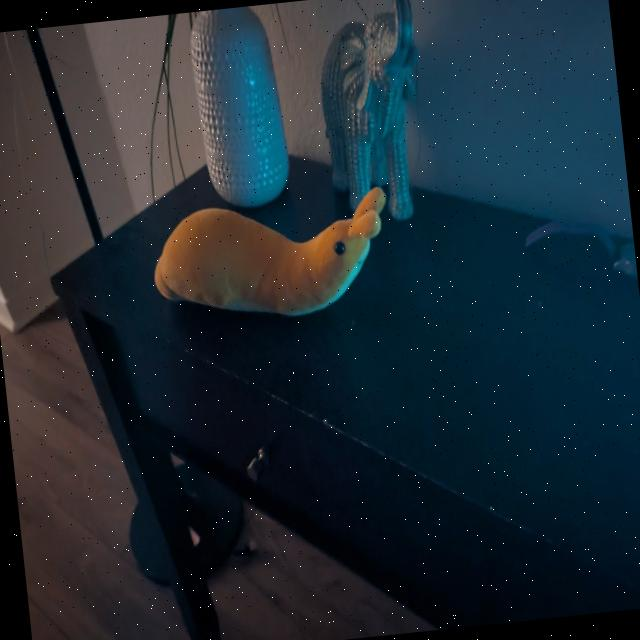banana-slug-toy: (136, 170, 414, 347)
